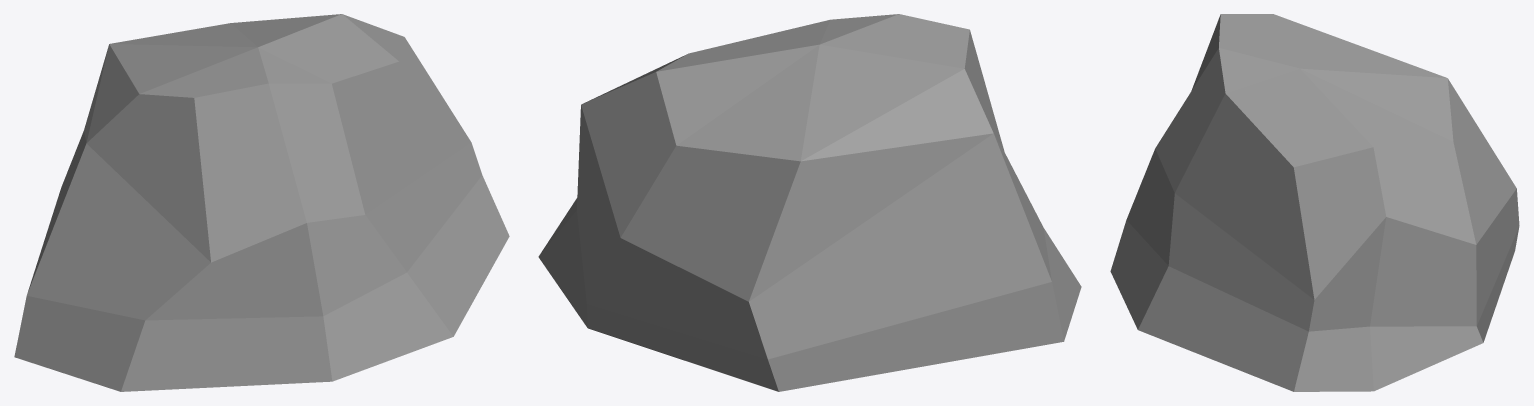
The model's file is rock06__mesh_LOD.fbx.
3 views of the same model, side by side, from view 1: azimuth 30°, elevation 25°; view 2: azimuth 150°, elevation 25°; view 3: azimuth 270°, elevation 25° (orthographic). The views are drawn at different scales.
Parts seen in each view (by area): view 1: rock06__mesh_LOD0; view 2: rock06__mesh_LOD0; view 3: rock06__mesh_LOD0.
Boxes of the visible parts, x1,y1,x2,y2 form: rock06__mesh_LOD0: (14, 14, 509, 391); rock06__mesh_LOD0: (538, 14, 1081, 391); rock06__mesh_LOD0: (1110, 14, 1519, 391).
Size of what is drawn, in the model's own units: 1736 by 858 by 1413.
Materials: 1 (1 with a texture image).
